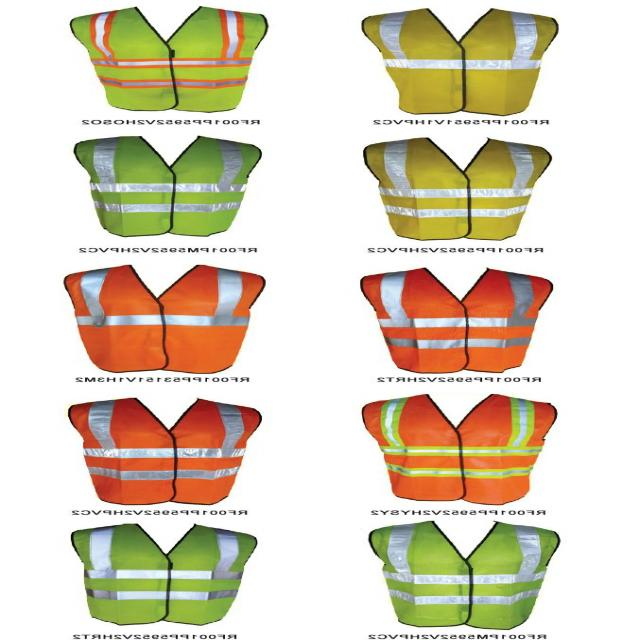Reflective-Jacket: (51, 261, 279, 378), (349, 392, 575, 509), (58, 2, 284, 118), (348, 264, 572, 379), (356, 518, 578, 634), (352, 4, 573, 120), (53, 394, 274, 508), (353, 133, 569, 248), (62, 131, 277, 245), (60, 520, 273, 632)
